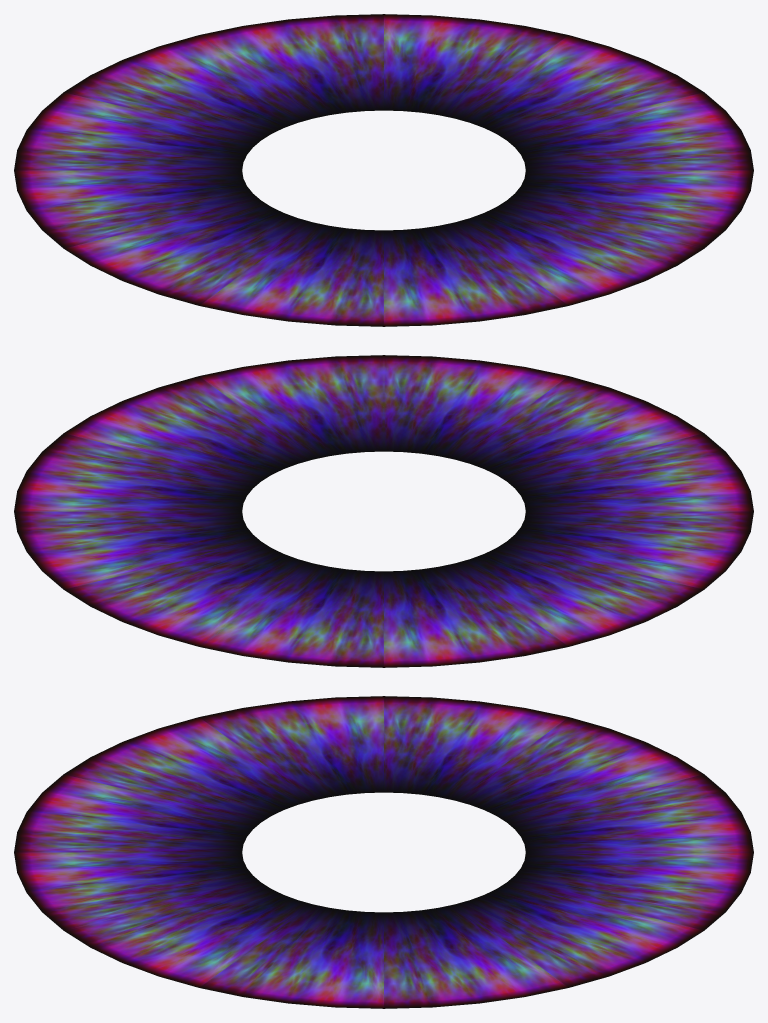
File: FlameRing_01.FBX
3 renders of one model, top to bottom at view 1: azimuth 30°, elevation 25°; view 2: azimuth 150°, elevation 25°; view 3: azimuth 270°, elevation 25°, orthographic.
Parts seen in each view (by area): view 1: Tube001; view 2: Tube001; view 3: Tube001.
Boxes of the visible parts, left/top/right/bottom form: Tube001: left=14, top=14, right=753, bottom=326; Tube001: left=14, top=355, right=753, bottom=667; Tube001: left=14, top=696, right=753, bottom=1008.
Bounding box in the file's own units: 0.9857 × 4.31e-08 × 0.9857.
Materials: 1 (1 with a texture image).
